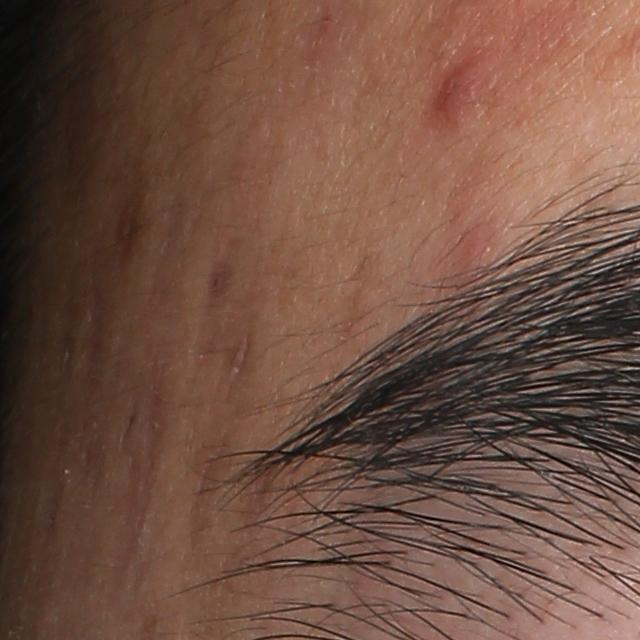papule: (427, 63, 480, 130)
